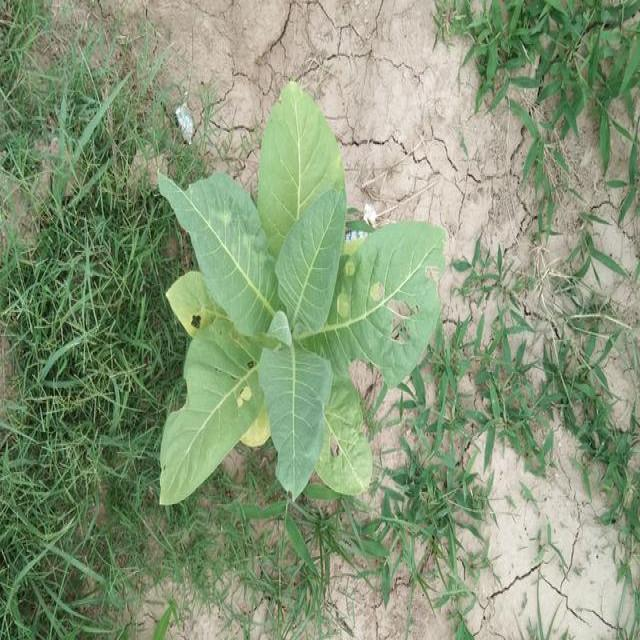crop: (153, 75, 444, 519)
